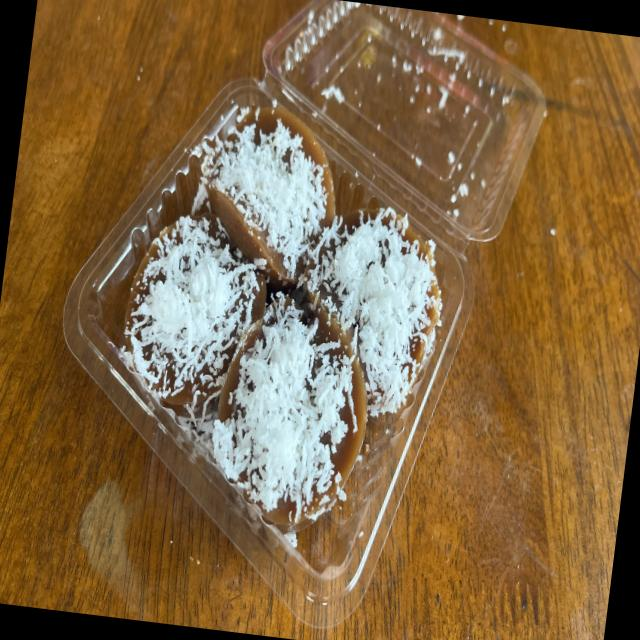Kuih lompang: (212, 293, 367, 529), (303, 208, 441, 416), (123, 214, 266, 406), (202, 106, 334, 289)
